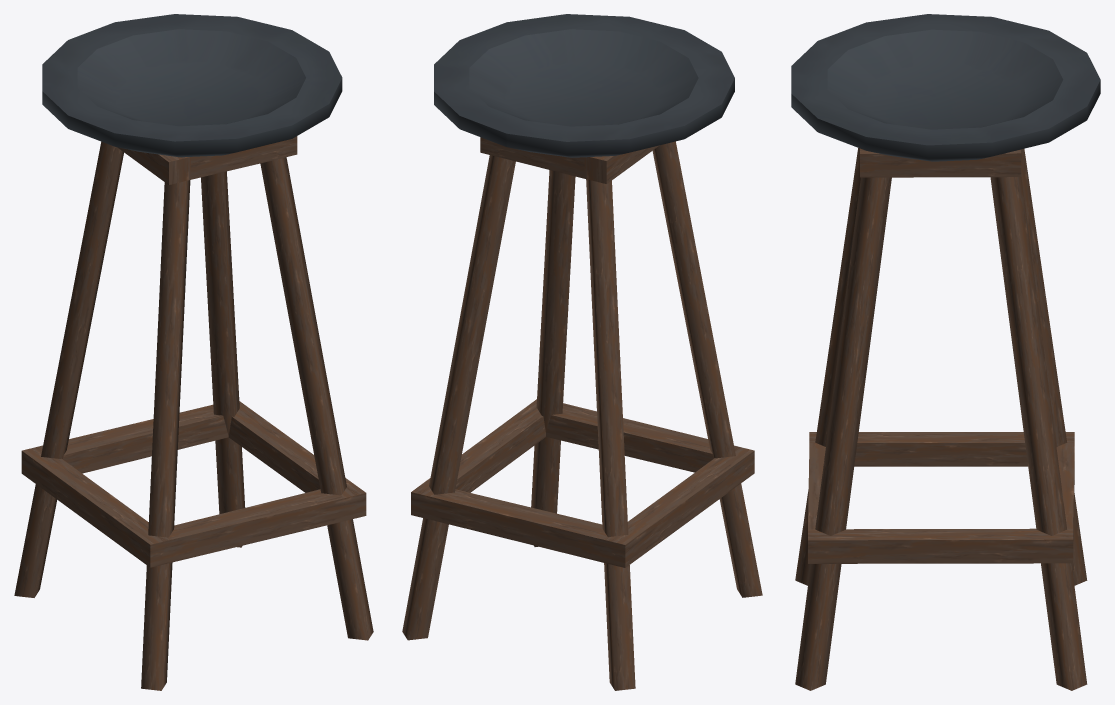
The model's file is FSCFireBowl.fbx.
3 renders of one model, left to right at view 1: azimuth 30°, elevation 25°; view 2: azimuth 150°, elevation 25°; view 3: azimuth 270°, elevation 25°, orthographic. The views are drawn at different scales.
Visible parts, largest first — view 1: Cylinder; view 2: Cylinder; view 3: Cylinder.
Part boxes in pixels (x1,y1,x2,y2): Cylinder: (14, 14, 373, 690); Cylinder: (402, 14, 762, 690); Cylinder: (791, 14, 1100, 690).
Size of the model in its own units: 285 by 559 by 284.
